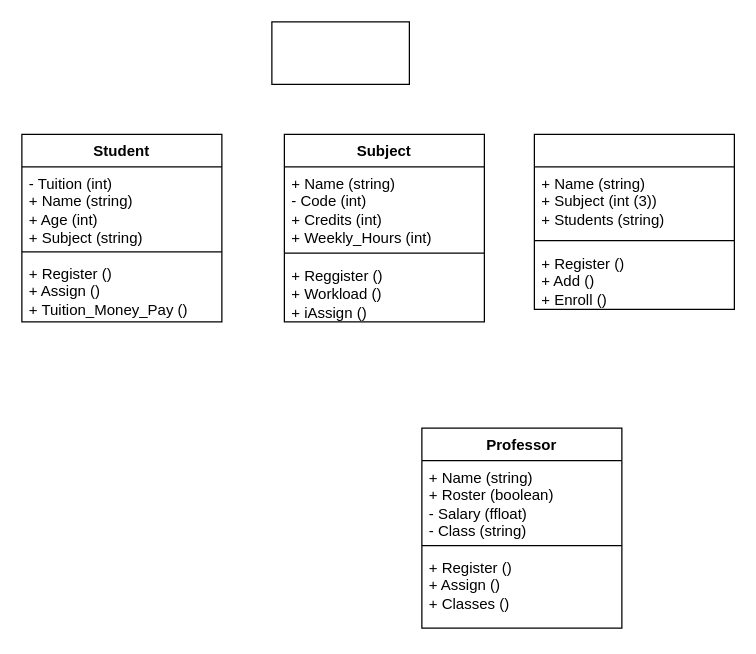
Some shapes in this 756 by 654 pixel diagram are drawn without their labels. Each missing label, with the box of its shape:
Class: (533, 133, 734, 309)
School: (271, 21, 409, 84)
